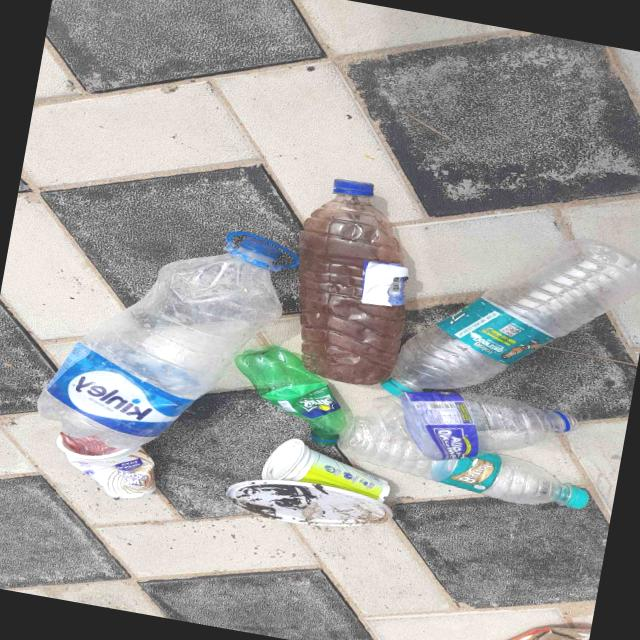chai_nhua: (381, 238, 640, 394), (78, 252, 280, 399), (338, 418, 589, 509), (298, 192, 404, 384), (390, 391, 575, 460), (233, 346, 345, 446), (36, 393, 148, 448)
hop_nhua: (261, 439, 389, 501)
nhua: (226, 479, 391, 527), (54, 434, 154, 500)
